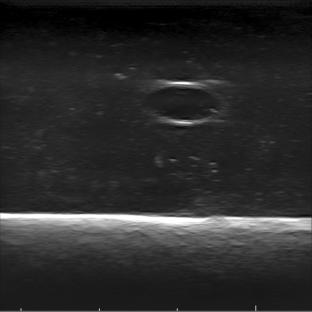vessel: (142, 80, 223, 125)
